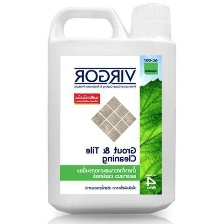cleaning_solution: (44, 2, 177, 218)
